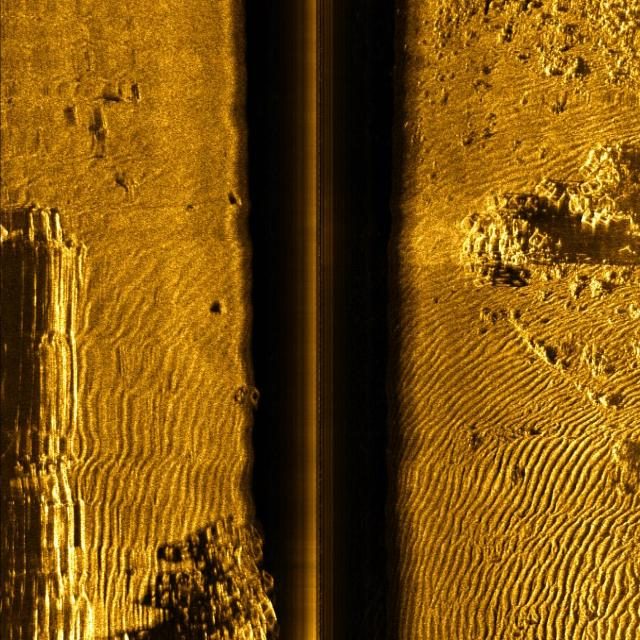artificial reef: (456, 142, 615, 292), (176, 504, 330, 640), (235, 362, 264, 406)
